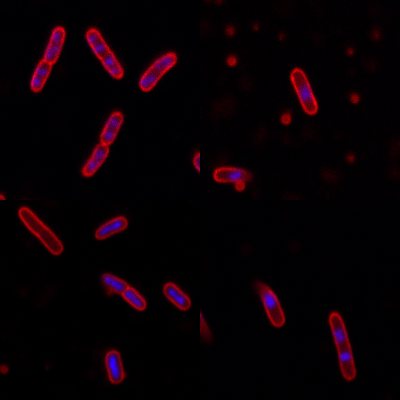Control: (81, 109, 126, 178), (27, 26, 66, 94), (84, 28, 124, 80), (138, 52, 177, 93)
Nalidixate: (325, 311, 357, 382), (289, 65, 320, 116)
Oblique: (252, 279, 286, 327), (210, 166, 255, 192)
Rifampicin: (98, 272, 147, 312), (161, 281, 191, 312), (92, 215, 127, 241), (103, 348, 123, 385)
Vesicle: (279, 111, 292, 126), (348, 92, 361, 105), (223, 24, 236, 37), (224, 55, 238, 67), (344, 152, 356, 164), (345, 45, 356, 57)
